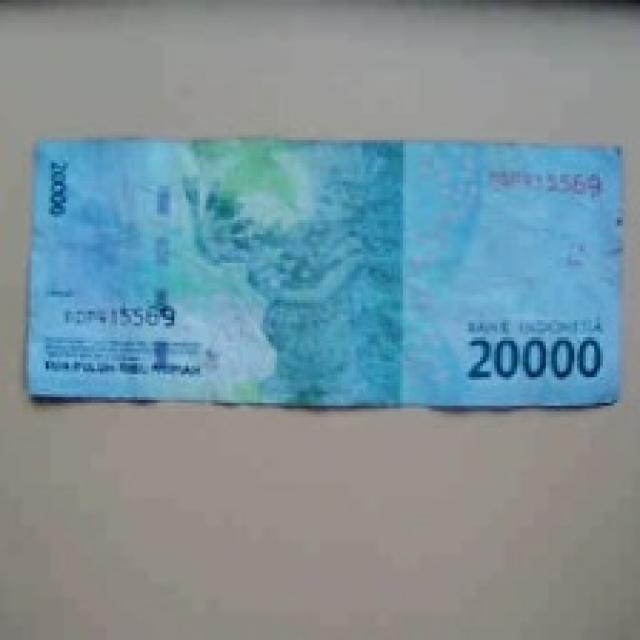dua puluh ribu rupiah: (0, 109, 640, 435)
